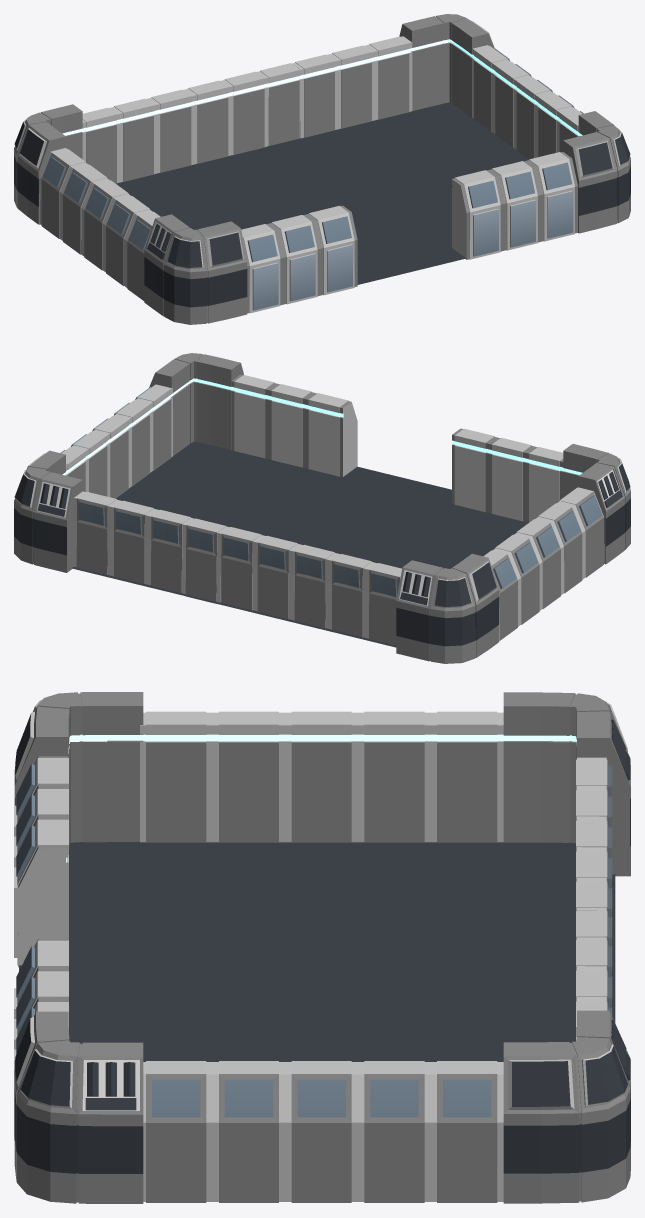
Rendered from Envi.fbx.
3 renders of one model, top to bottom at view 1: azimuth 30°, elevation 25°; view 2: azimuth 150°, elevation 25°; view 3: azimuth 270°, elevation 25°, orthographic. The views are drawn at different scales.
Parts seen in each view (by area): view 1: Plane, WallCorner2, WallCorner1.006, WallCorner2.006, WallCorner1, Wall2.014, Wall2.013, Wall2.005, Wall2.004, Wall2.012, Wall2.003, Wall1.004 (+18 smaller); view 2: Plane, WallCorner1, WallCorner1.006, WallCorner2.006, WallCorner2, Wall2.014, Wall2.013, Wall2.012, Wall1.009, Wall1.002, Wall1.005, Wall1.007 (+18 smaller); view 3: Plane, WallCorner2.006, WallCorner1.006, WallCorner1, WallCorner2, WallSide.009, WallSide.006, WallSide.007, WallSide.008, WallSide.010, WallSide.004, WallSide.002 (+17 smaller).
Part boxes in pixels (<box>): Plane: <box>116,102,528,284</box>; WallCorner2: <box>144,214,247,324</box>; WallCorner1.006: <box>399,14,494,117</box>; WallCorner2.006: <box>563,111,630,233</box>; WallCorner1: <box>14,104,82,224</box>; Wall2.014: <box>452,170,503,259</box>; Wall2.013: <box>489,161,540,250</box>; Wall2.005: <box>306,205,357,295</box>; Wall2.004: <box>269,214,320,304</box>; Wall2.012: <box>526,152,577,241</box>; Wall2.003: <box>241,223,283,313</box>; Wall1.004: <box>292,54,337,138</box>; Plane: <box>72,441,528,647</box>; WallCorner1: <box>396,553,499,663</box>; WallCorner1.006: <box>14,450,82,572</box>; WallCorner2.006: <box>149,353,243,455</box>; WallCorner2: <box>563,444,630,564</box>; Wall2.014: <box>305,393,357,477</box>; Wall2.013: <box>268,383,314,467</box>; Wall2.012: <box>231,374,276,458</box>; Wall1.009: <box>182,518,226,603</box>; Wall1.002: <box>329,553,374,637</box>; Wall1.005: <box>111,500,156,584</box>; Wall1.007: <box>254,535,300,619</box>; Plane: <box>19,842,615,1061</box>; WallCorner2.006: <box>14,1011,143,1203</box>; WallCorner1.006: <box>503,1010,630,1203</box>; WallCorner1: <box>503,692,630,876</box>; WallCorner2: <box>14,692,143,849</box>; WallSide.009: <box>212,1061,285,1202</box>; WallSide.006: <box>285,1061,357,1202</box>; WallSide.007: <box>431,1061,503,1202</box>; WallSide.008: <box>358,1061,430,1202</box>; WallSide.010: <box>143,1061,212,1202</box>; WallSide.004: <box>212,711,285,842</box>; WallSide.002: <box>358,711,430,842</box>.
Size of the model in its own units: 18.29 by 3.12 by 12.48.
Materials: 3 (2 with a texture image).
